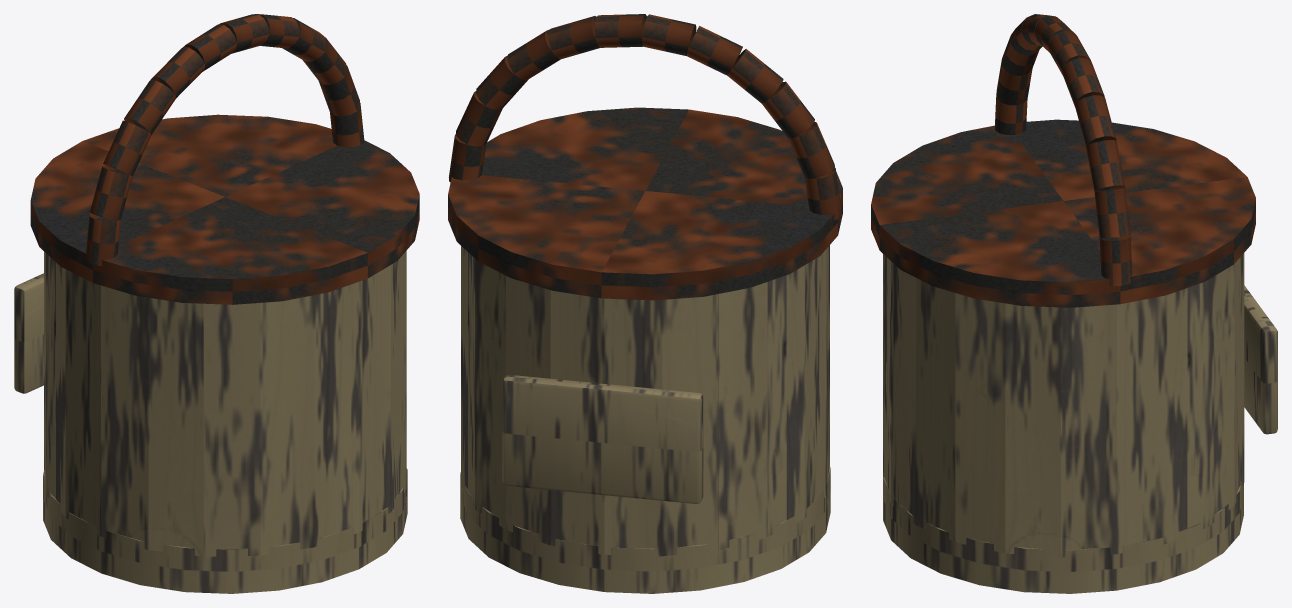
File: SM_PaintCan_Closed_fb36c9f709.fbx
The picture shows the model from 3 angles, left to right: view 1: azimuth 30°, elevation 25°; view 2: azimuth 150°, elevation 25°; view 3: azimuth 270°, elevation 25°; orthographic projection. The views are drawn at different scales.
Parts seen in each view (by area): view 1: SM_PaintCan_Closed_fb36c9f709; view 2: SM_PaintCan_Closed_fb36c9f709; view 3: SM_PaintCan_Closed_fb36c9f709.
Boxes of the visible parts, bbox=[...] form: SM_PaintCan_Closed_fb36c9f709: bbox=[14, 14, 419, 593]; SM_PaintCan_Closed_fb36c9f709: bbox=[448, 14, 842, 593]; SM_PaintCan_Closed_fb36c9f709: bbox=[871, 14, 1277, 593].
Size of what is drawn, in the model's own units: 19.17 by 20.25 by 26.79.
Materials: 2 (2 with a texture image).
